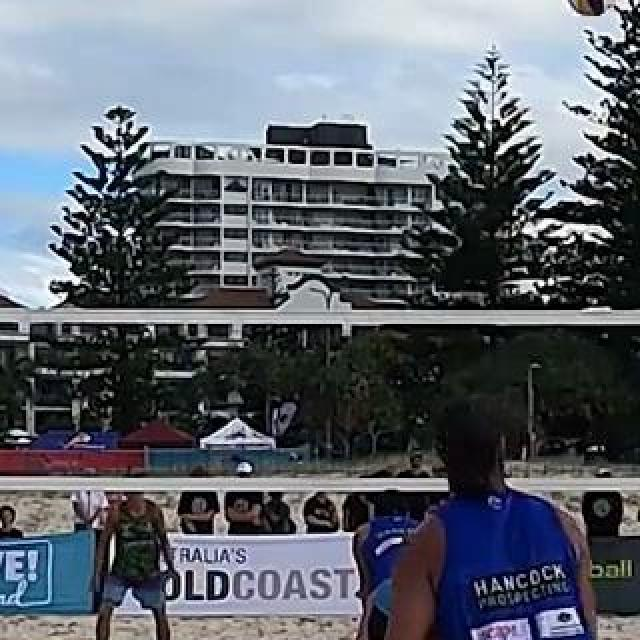volleyball: (566, 0, 608, 14)
